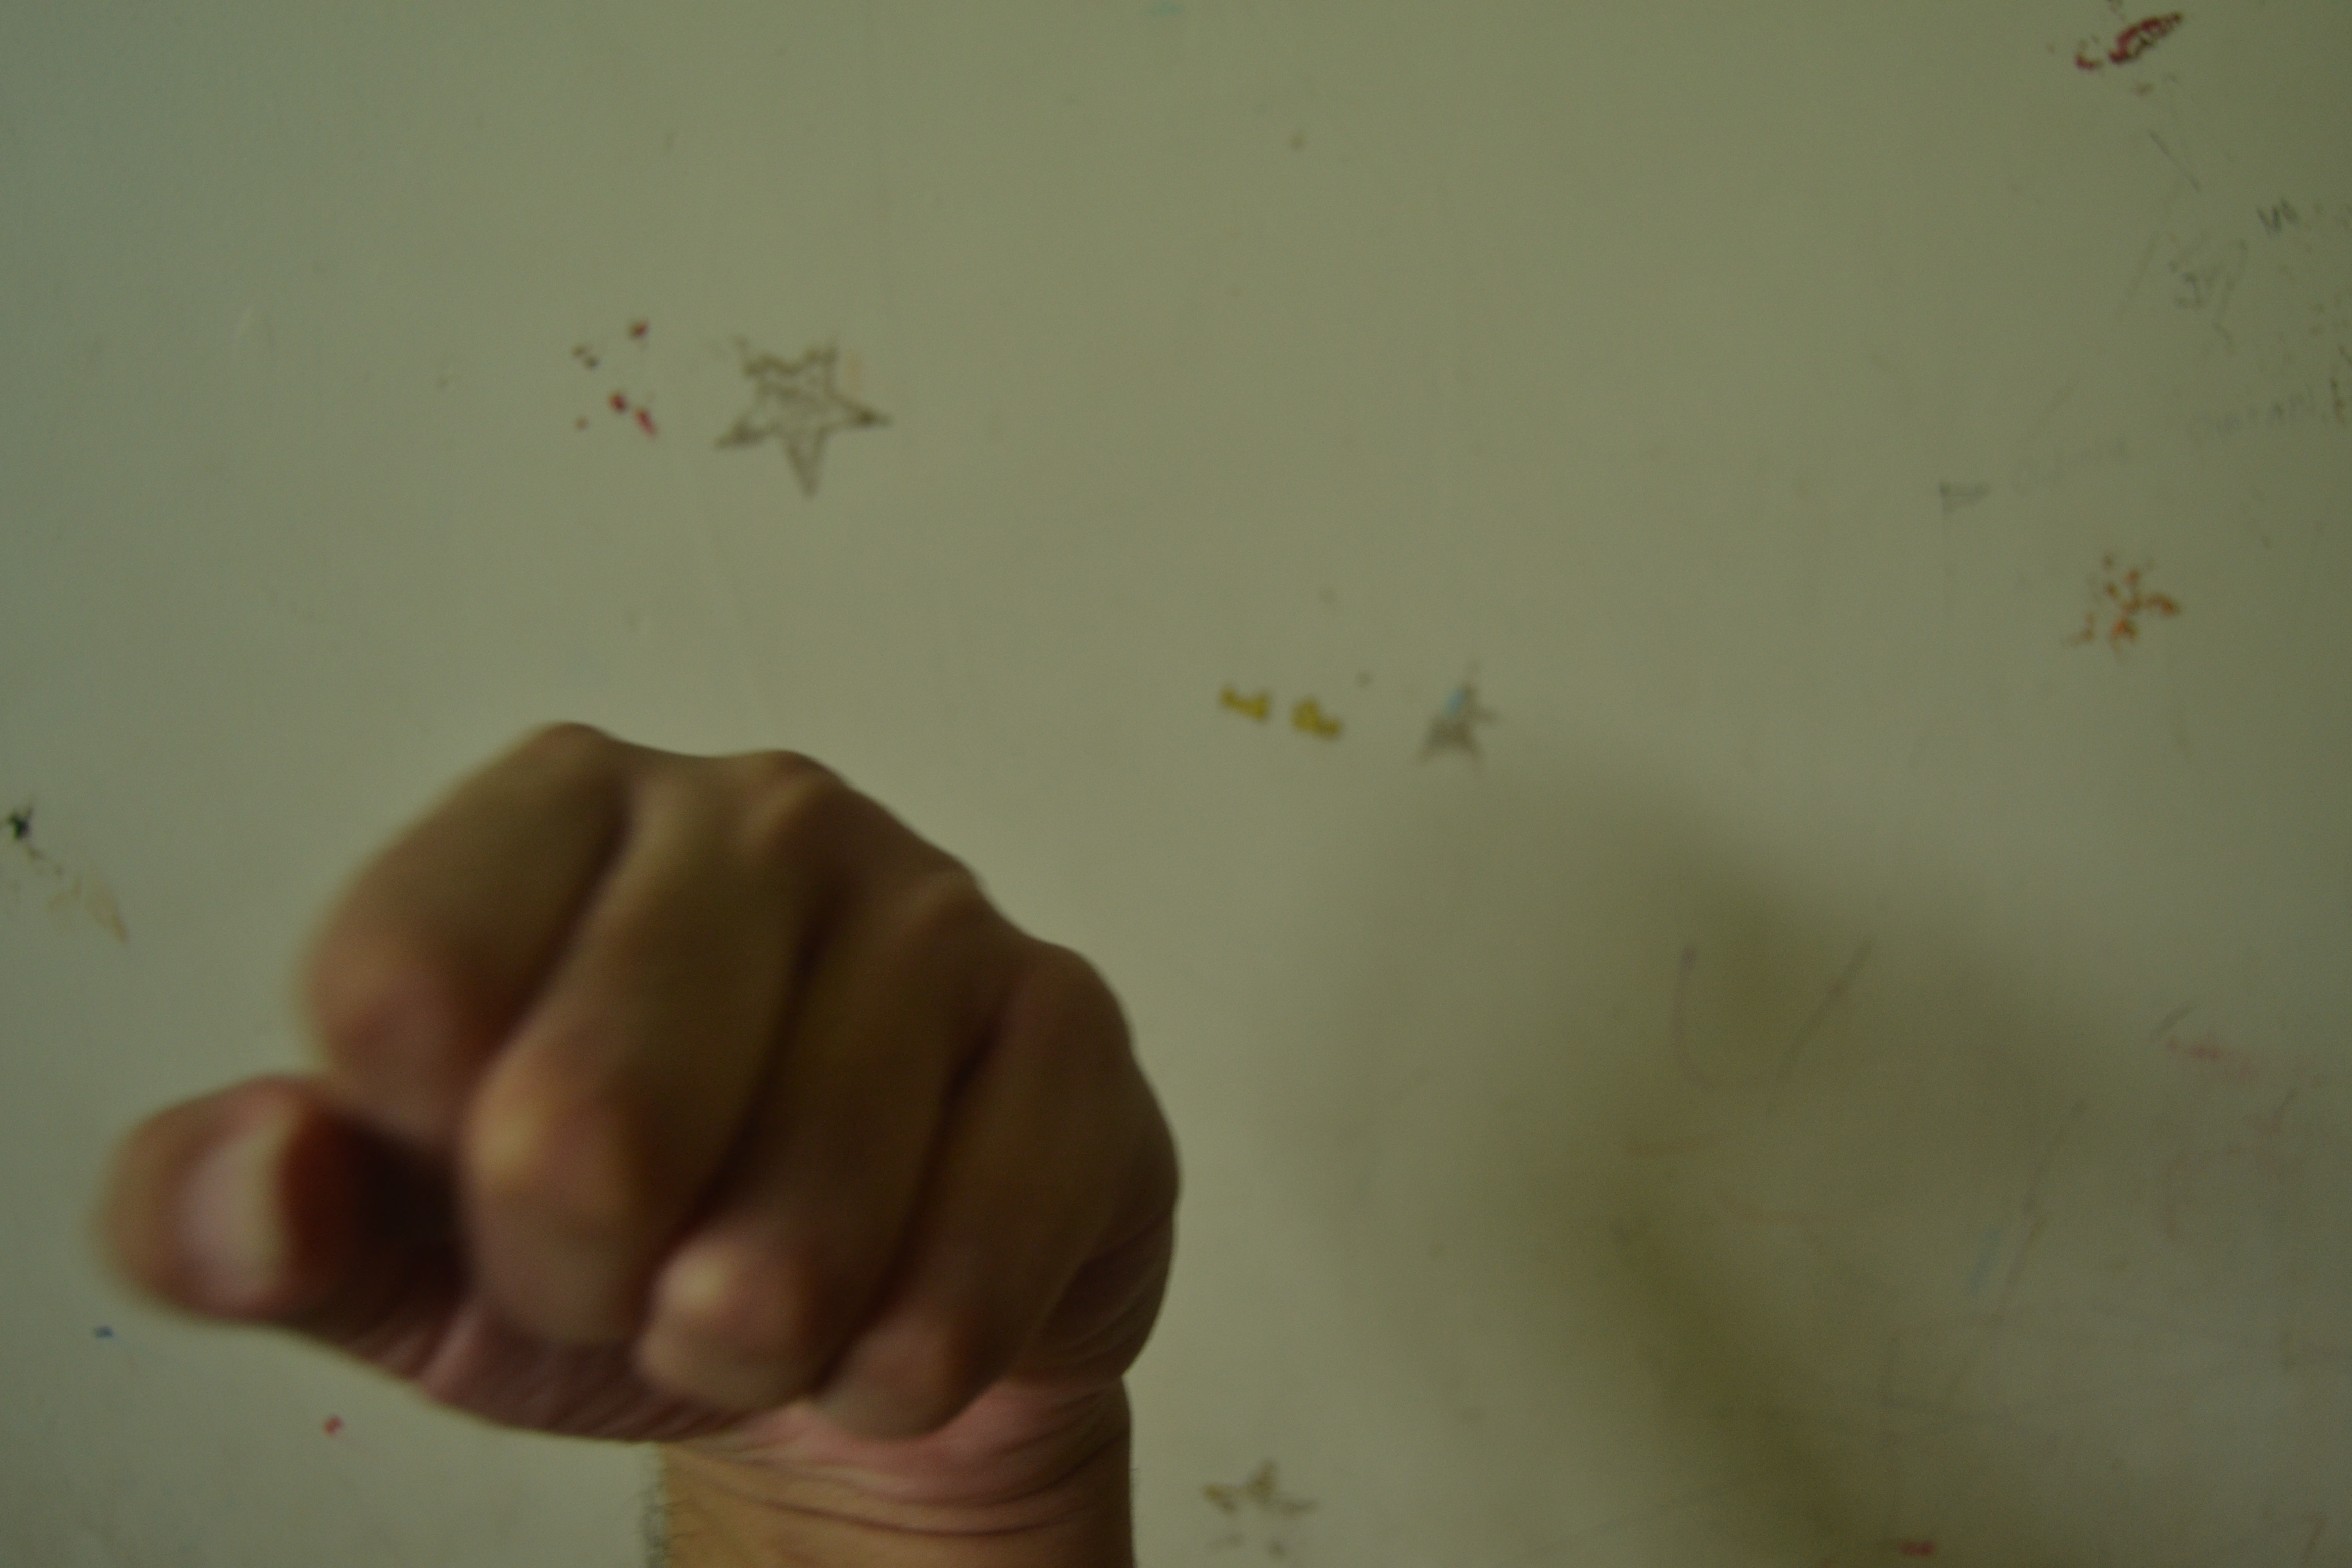click: (63, 684, 1241, 1526)
